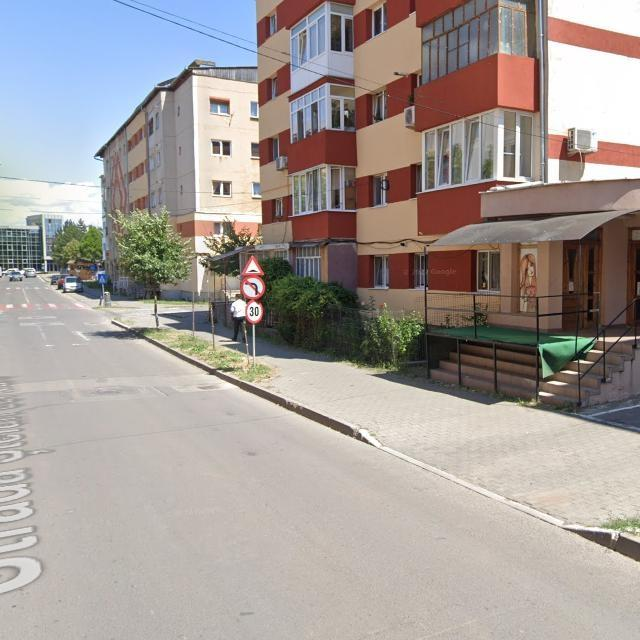forb_speed_over_30: (246, 301, 264, 324)
info_crosswalk: (98, 274, 107, 285)
